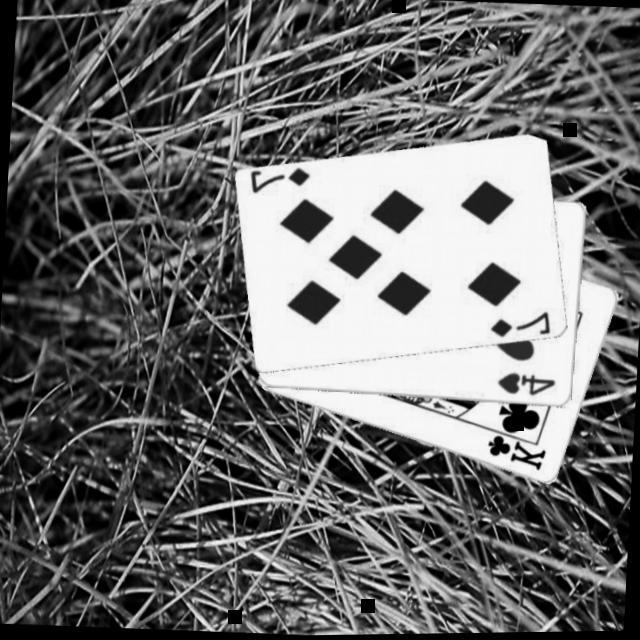4H: (496, 368, 559, 400)
7D: (488, 306, 555, 342), (248, 162, 314, 198)
KC: (483, 423, 551, 474)
